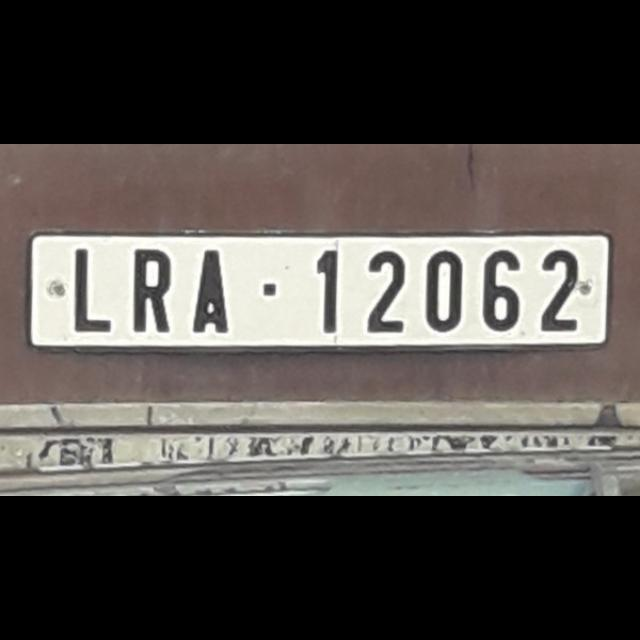pl_license_plate: (30, 235, 604, 342)
